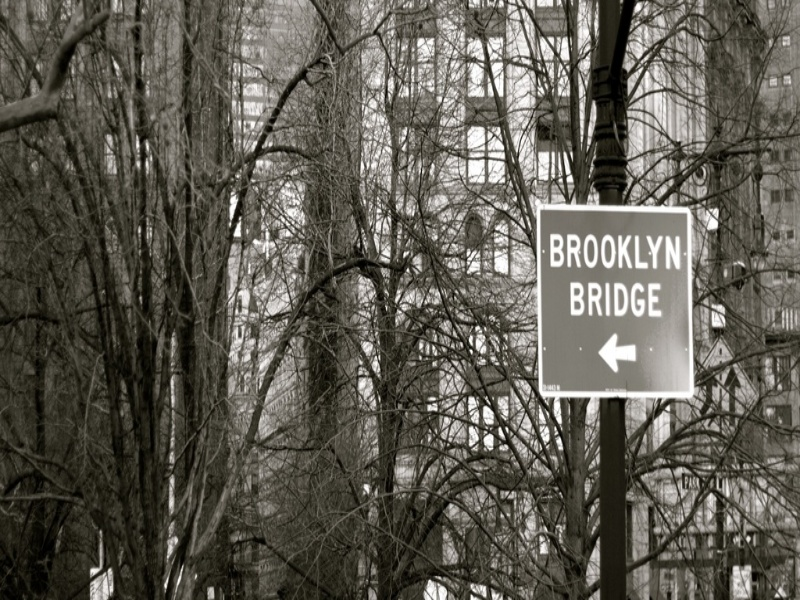left_direction: (592, 329, 646, 378)
